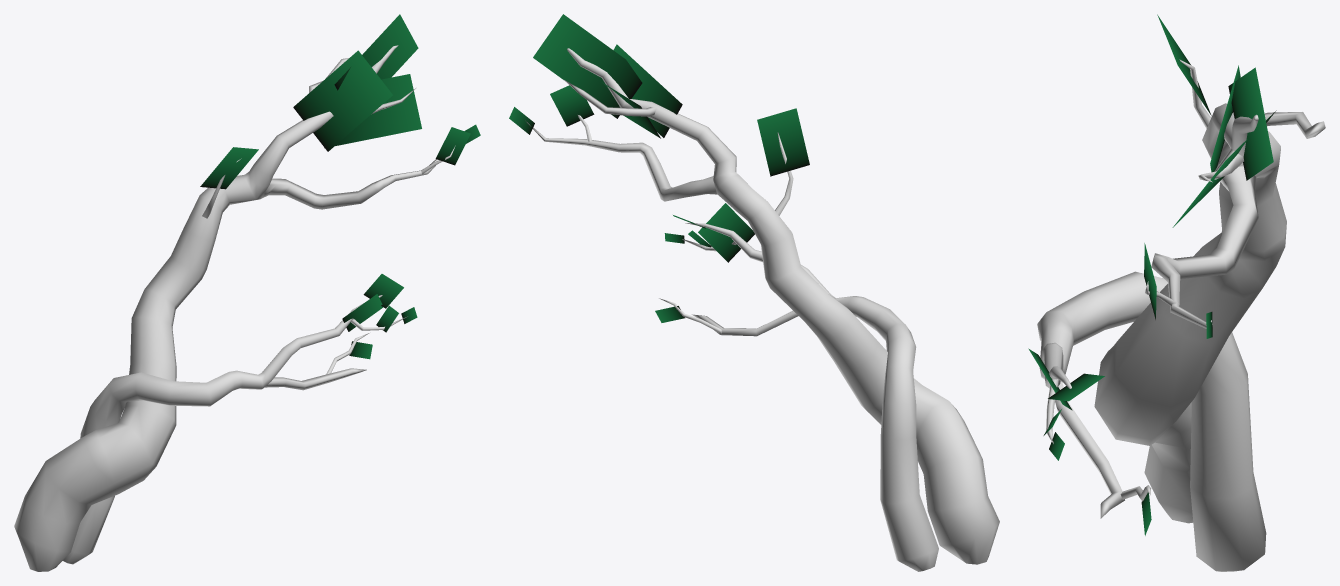
The model's file is SM_TreeWindsweptSaplingB02.fbx.
3 views of the same model, side by side, from view 1: azimuth 30°, elevation 25°; view 2: azimuth 150°, elevation 25°; view 3: azimuth 270°, elevation 25° (orthographic). The views are drawn at different scales.
Parts seen in each view (by area): view 1: SM_TreeWindsweptSaplingB02_LOD0; view 2: SM_TreeWindsweptSaplingB02_LOD0; view 3: SM_TreeWindsweptSaplingB02_LOD0.
Boxes of the visible parts, x1,y1,x2,y2 form: SM_TreeWindsweptSaplingB02_LOD0: (14, 14, 480, 571); SM_TreeWindsweptSaplingB02_LOD0: (509, 14, 999, 571); SM_TreeWindsweptSaplingB02_LOD0: (1028, 14, 1325, 571).
Bounding box in the file's own units: 761 × 718 × 247.
